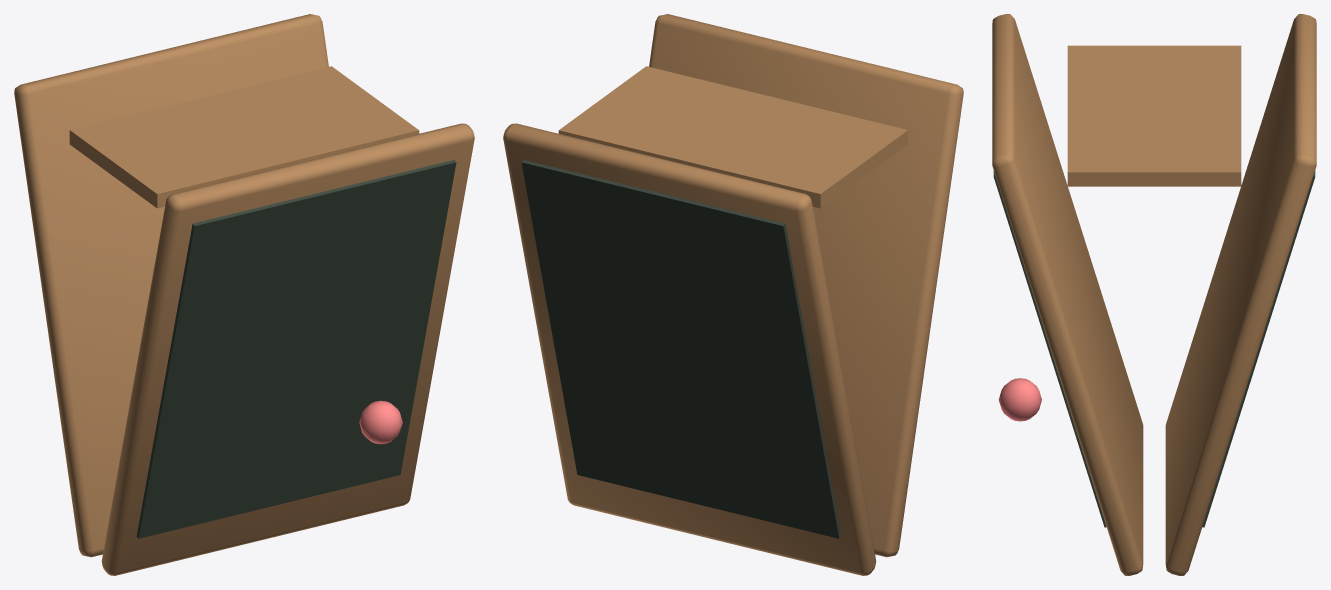
The model's file is sandwich_board.glb.
3 views of the same model, side by side, from view 1: azimuth 30°, elevation 25°; view 2: azimuth 150°, elevation 25°; view 3: azimuth 270°, elevation 25° (orthographic).
Visible parts, largest first — view 1: sandwich_board; view 2: sandwich_board; view 3: sandwich_board.
Boxes of the visible parts, x1,y1,x2,y2 form: sandwich_board: [14, 14, 474, 575]; sandwich_board: [503, 14, 963, 575]; sandwich_board: [992, 14, 1316, 575].
Bounding box in the file's own units: 0.88 × 1.18 × 0.8229.
